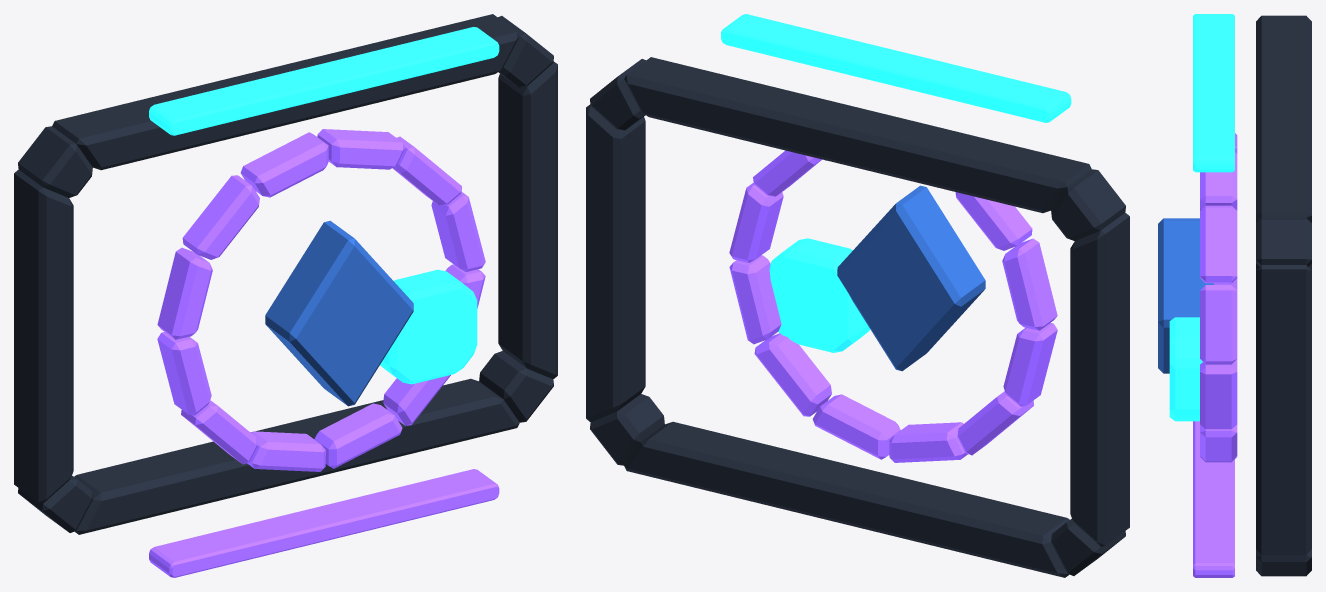
File: tech-nestjs.glb
The picture shows the model from 3 angles, left to right: view 1: azimuth 30°, elevation 25°; view 2: azimuth 150°, elevation 25°; view 3: azimuth 270°, elevation 25°; orthographic projection. The views are drawn at different scales.
Parts seen in each view (by area): view 1: tech-nestjs_SystemMaterial, tech-nestjs_AccentMaterial, tech-nestjs_SignalMaterial, tech-nestjs_CoreMaterial; view 2: tech-nestjs_SystemMaterial, tech-nestjs_AccentMaterial, tech-nestjs_SignalMaterial, tech-nestjs_CoreMaterial; view 3: tech-nestjs_SystemMaterial, tech-nestjs_AccentMaterial, tech-nestjs_SignalMaterial, tech-nestjs_CoreMaterial.
Boxes of the visible parts, box(x1,y1,x2,y2) form: tech-nestjs_SystemMaterial: box(14, 14, 557, 534); tech-nestjs_AccentMaterial: box(149, 129, 499, 577); tech-nestjs_SignalMaterial: box(149, 27, 499, 384); tech-nestjs_CoreMaterial: box(265, 220, 413, 406); tech-nestjs_SystemMaterial: box(586, 57, 1129, 577); tech-nestjs_AccentMaterial: box(729, 150, 1057, 462); tech-nestjs_SignalMaterial: box(721, 14, 1071, 352); tech-nestjs_CoreMaterial: box(837, 185, 985, 371); tech-nestjs_SystemMaterial: box(1256, 15, 1311, 576); tech-nestjs_AccentMaterial: box(1193, 133, 1237, 577); tech-nestjs_SignalMaterial: box(1169, 14, 1234, 421); tech-nestjs_CoreMaterial: box(1158, 218, 1213, 373).
Bounding box in the file's own units: 1.18 × 0.995 × 0.33.
